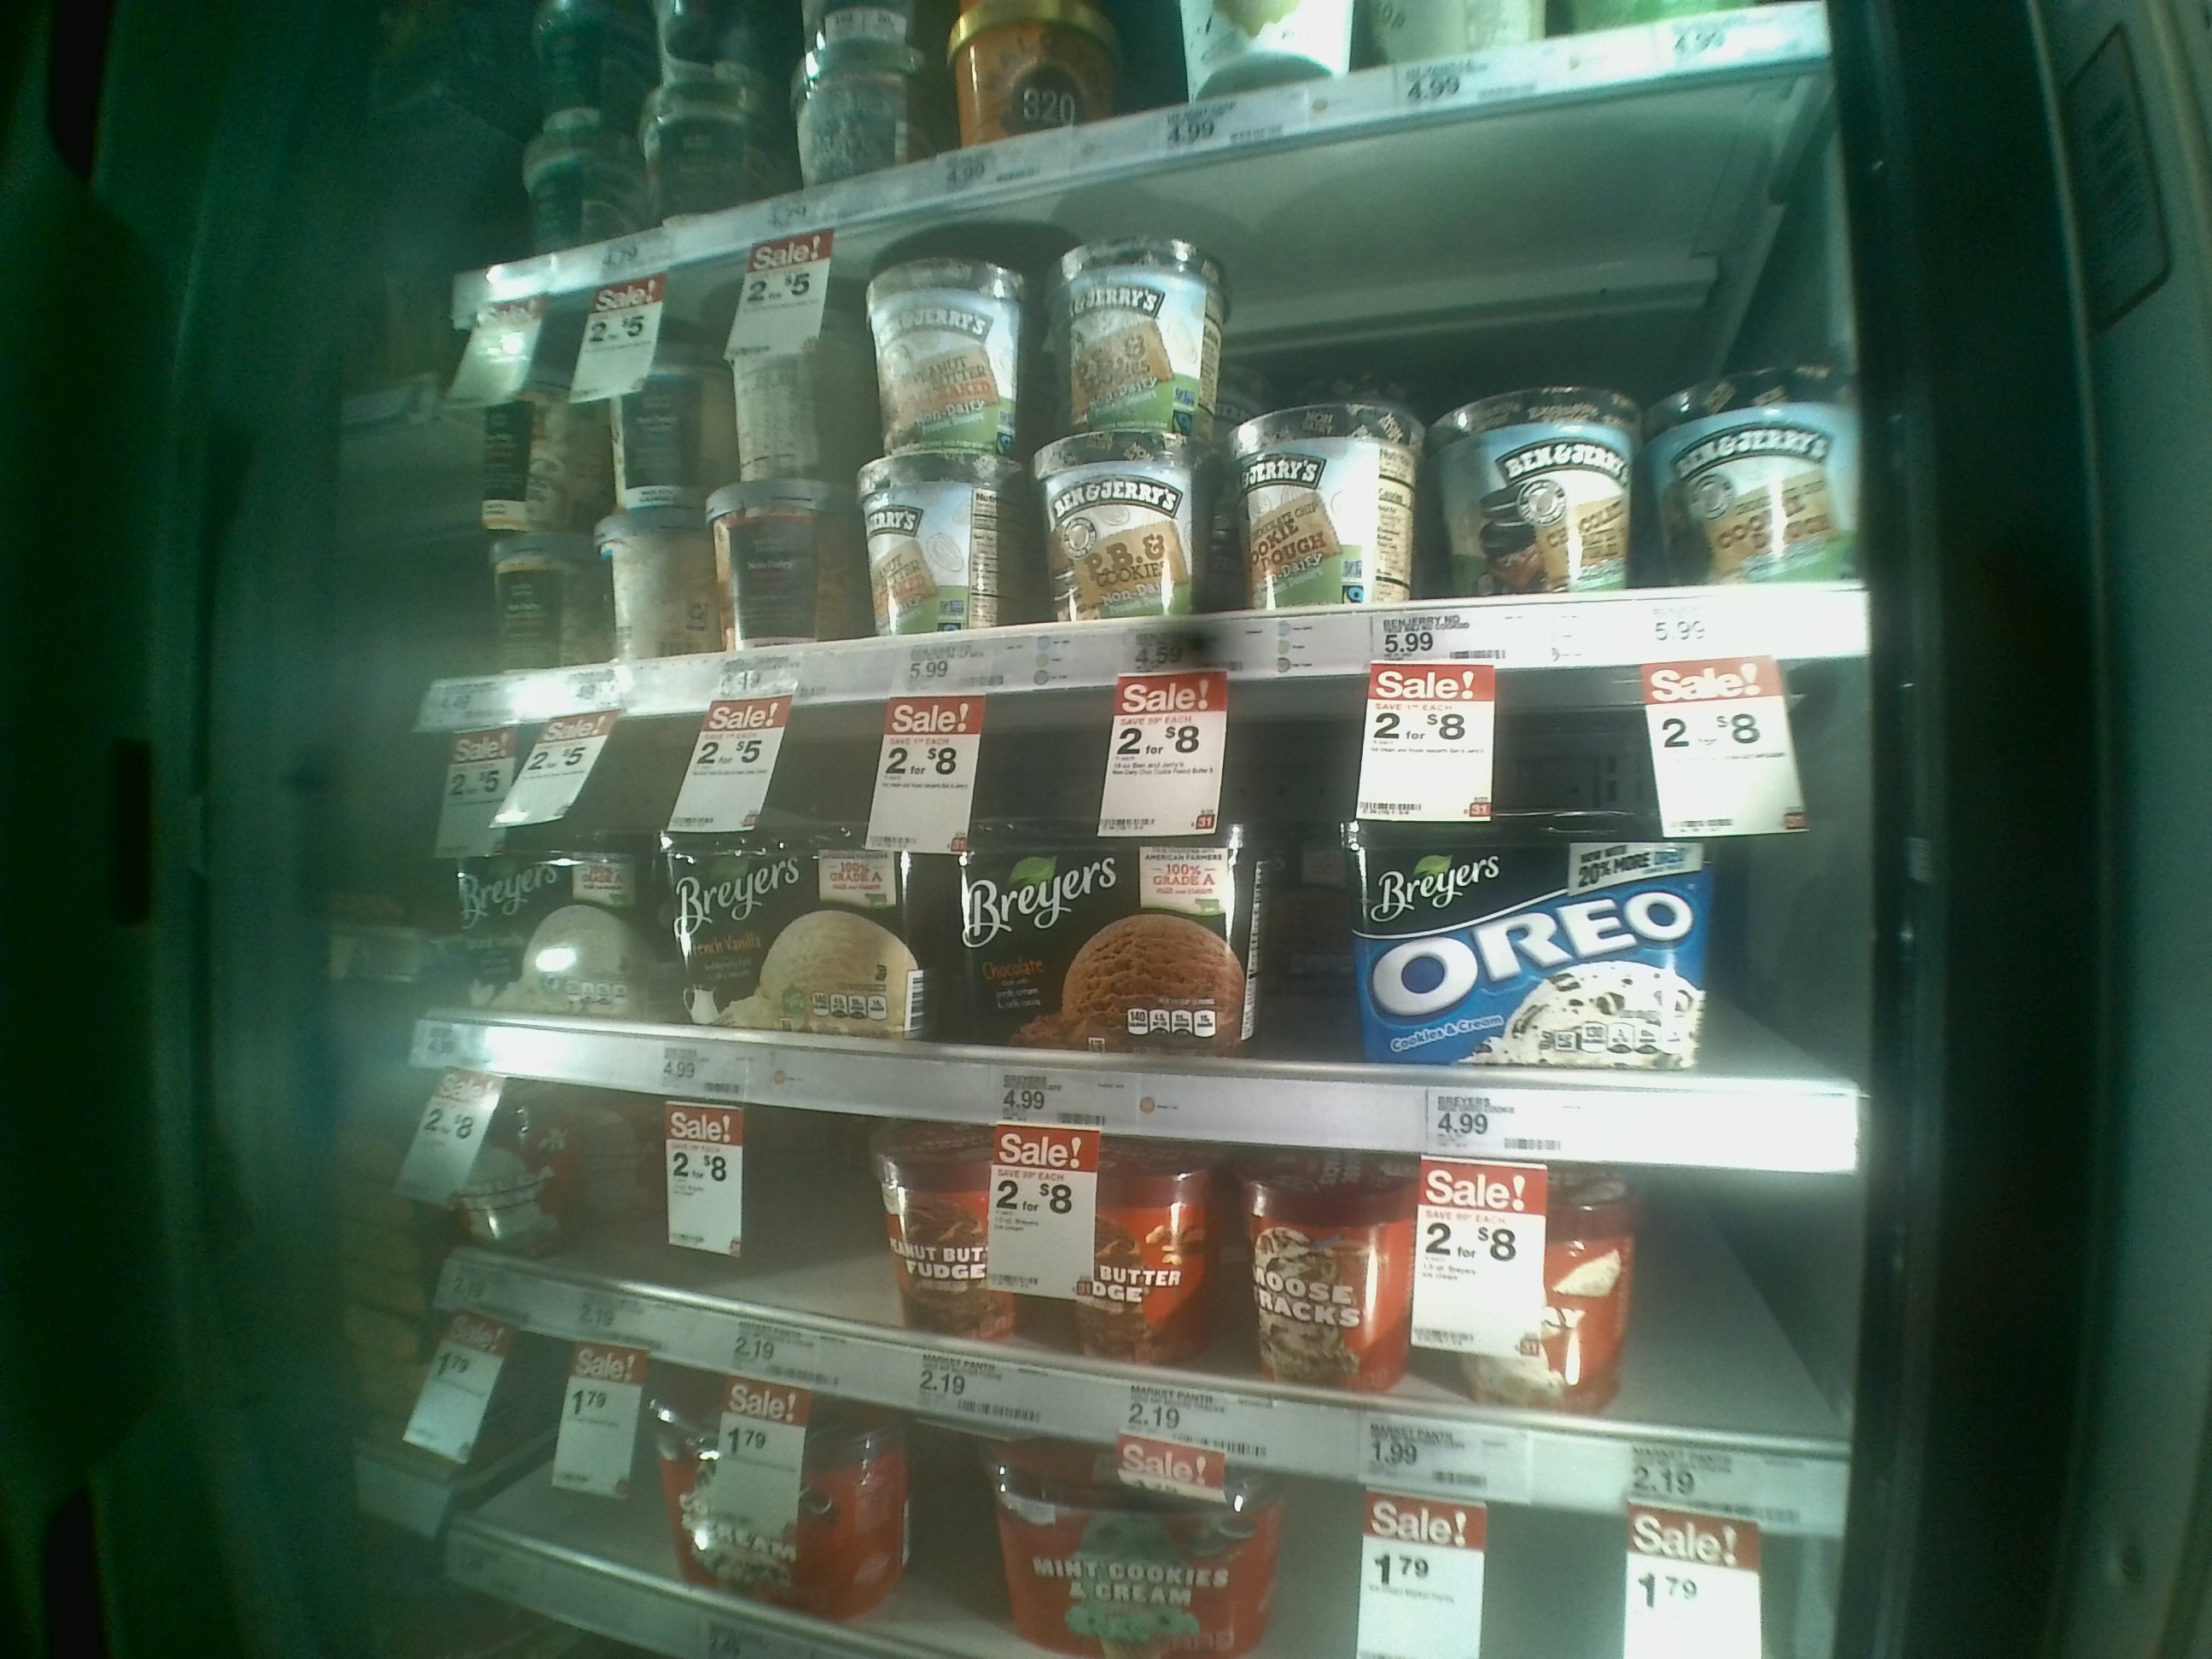shelf: (420, 659, 1874, 1180), (415, 1054, 1883, 1530)
